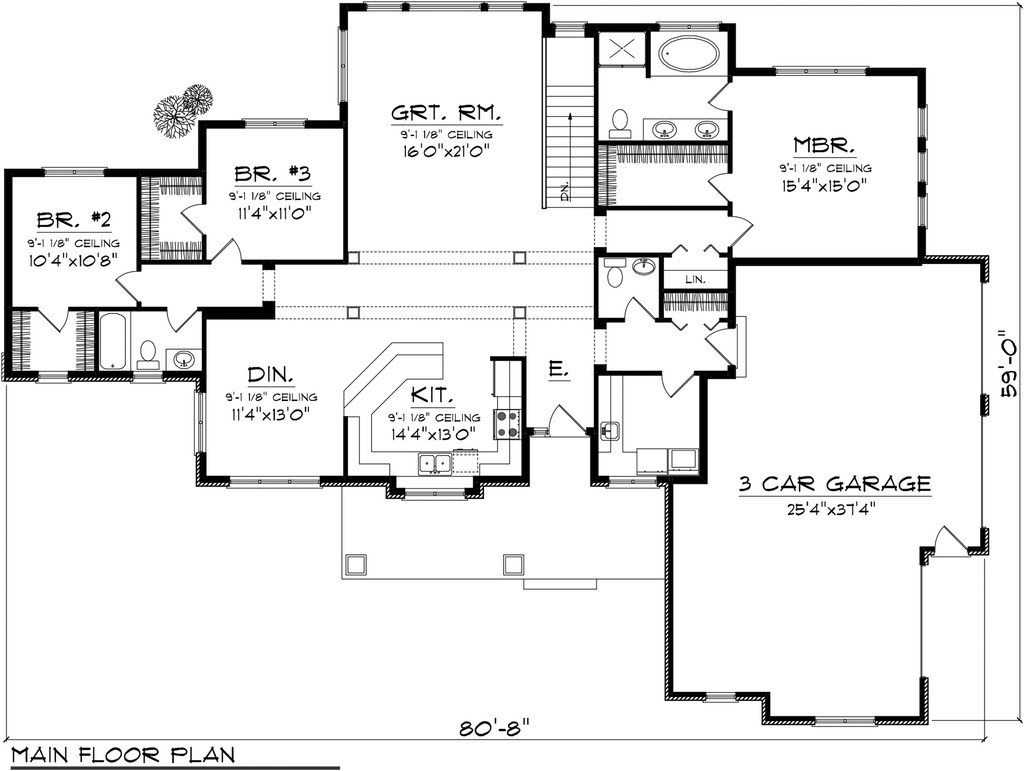door: (104, 265, 153, 303), (543, 402, 587, 438), (209, 235, 255, 268), (174, 199, 209, 242), (705, 168, 743, 206), (31, 303, 75, 335), (712, 217, 756, 249), (656, 367, 693, 402), (711, 77, 744, 112), (160, 304, 199, 333), (624, 296, 659, 327), (709, 328, 734, 366)
large_sink: (606, 104, 638, 148), (132, 340, 161, 374), (604, 248, 625, 293)
sink: (594, 415, 629, 448)
small_sink: (645, 111, 728, 148), (619, 253, 661, 283), (163, 349, 209, 373)
stairs: (542, 33, 594, 217)
tub: (647, 29, 725, 74), (91, 312, 122, 379)
twin_sink: (401, 440, 459, 479)
window: (915, 108, 935, 235), (185, 392, 213, 463), (334, 27, 354, 104), (362, 1, 530, 10), (223, 478, 323, 493), (243, 110, 304, 134), (41, 159, 107, 181), (772, 60, 867, 74)
